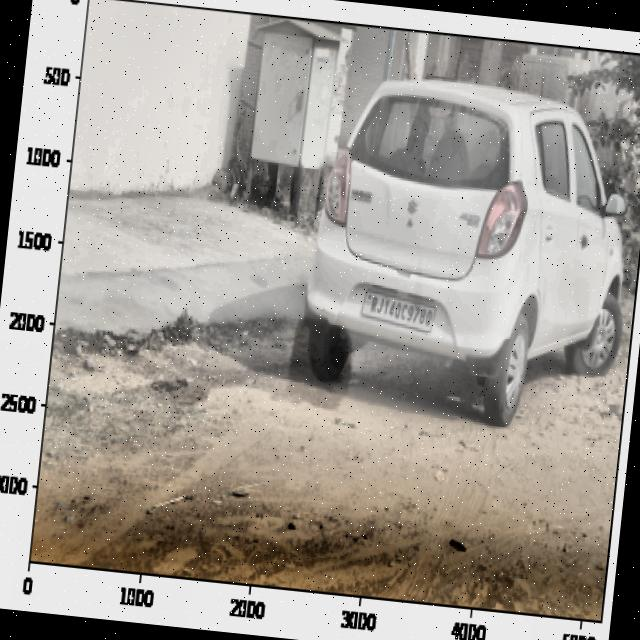license_plate: (362, 289, 440, 336)
